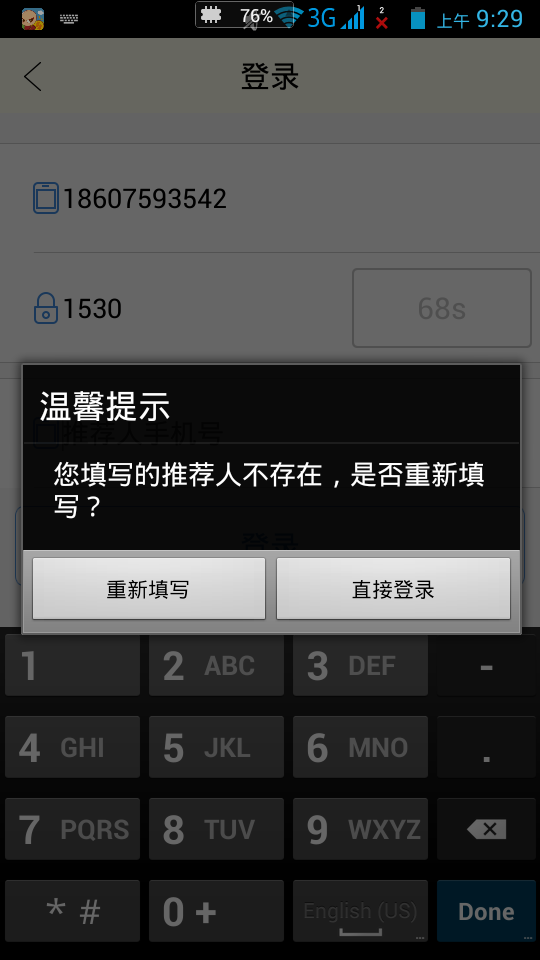alert: (21, 357, 525, 640)
